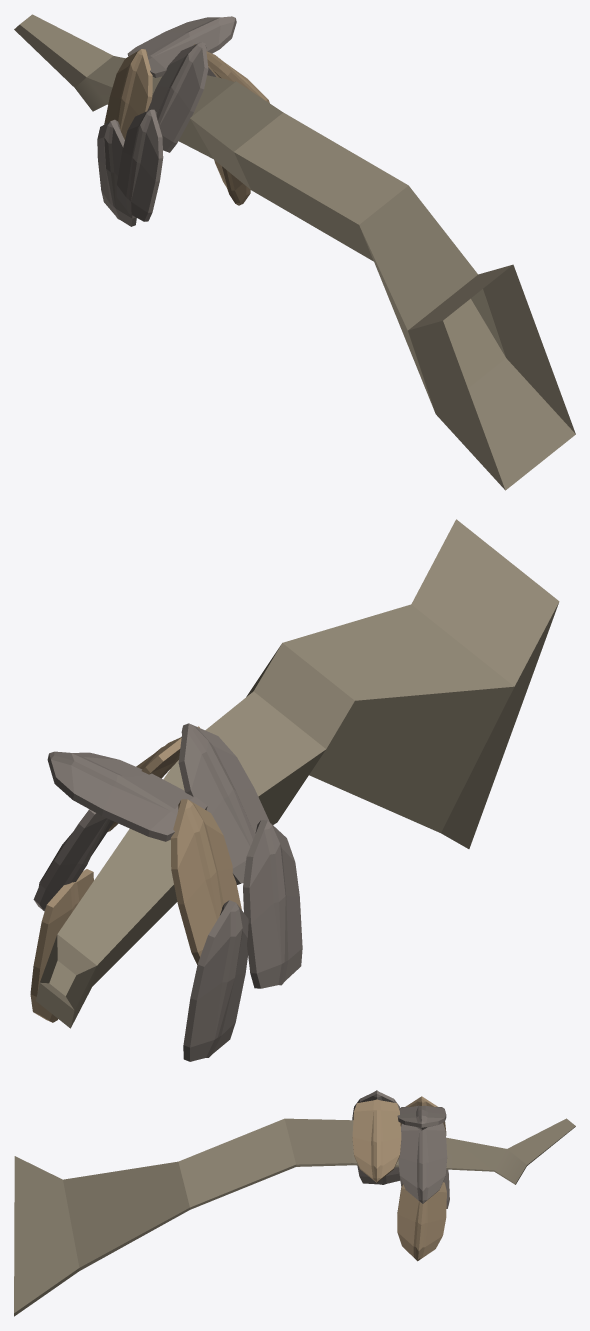
The model's file is retile_scale_2.fbx.
3 views of the same model, one above another, from view 1: azimuth 30°, elevation 25°; view 2: azimuth 150°, elevation 25°; view 3: azimuth 270°, elevation 25° (orthographic). The views are drawn at different scales.
Parts seen in each view (by area): view 1: scales; view 2: scales; view 3: scales.
Boxes of the visible parts, x1=… form: scales: x1=14, y1=14, x2=575, y2=490; scales: x1=30, y1=519, x2=559, y2=1061; scales: x1=14, y1=1090, x2=575, y2=1316.
Bounding box in the file's own units: 0.4763 × 0.6523 × 1.61.
